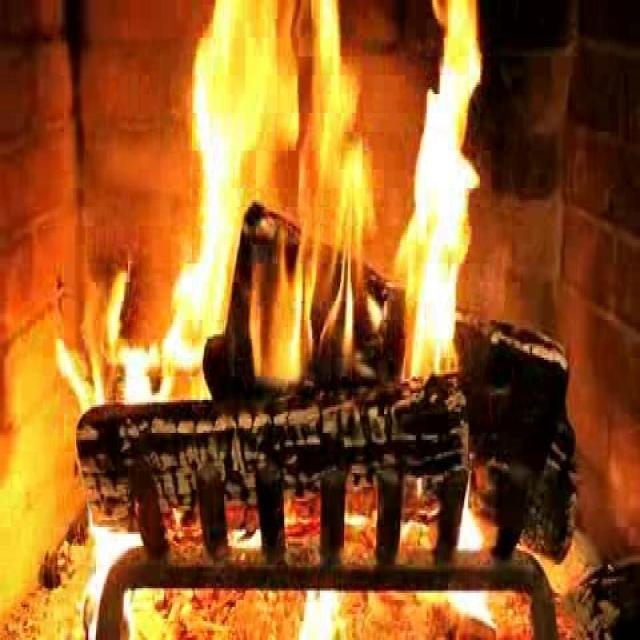fire: (177, 3, 475, 420)
